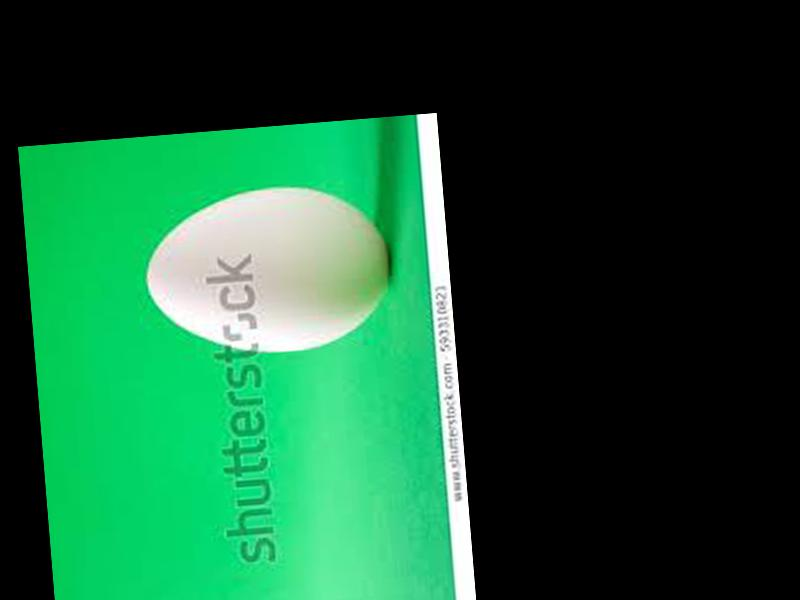Eggs: (141, 177, 399, 361)
